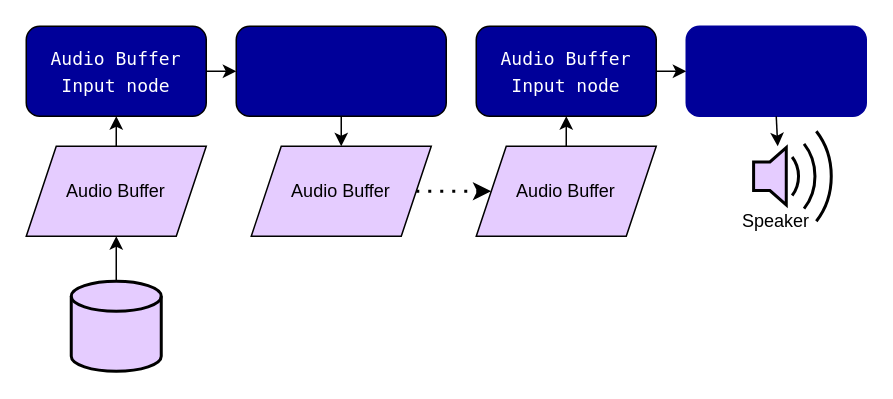
This 893x399 diagram has some shape labels left out. The shapes that lost their labels are listed below. From the top down, each one's centre as x and y in pixels, then its label:
At point (340, 70): "Offline Audio Context Destination".
At point (775, 70): "Context Destination".
At point (115, 325): "Asset".
